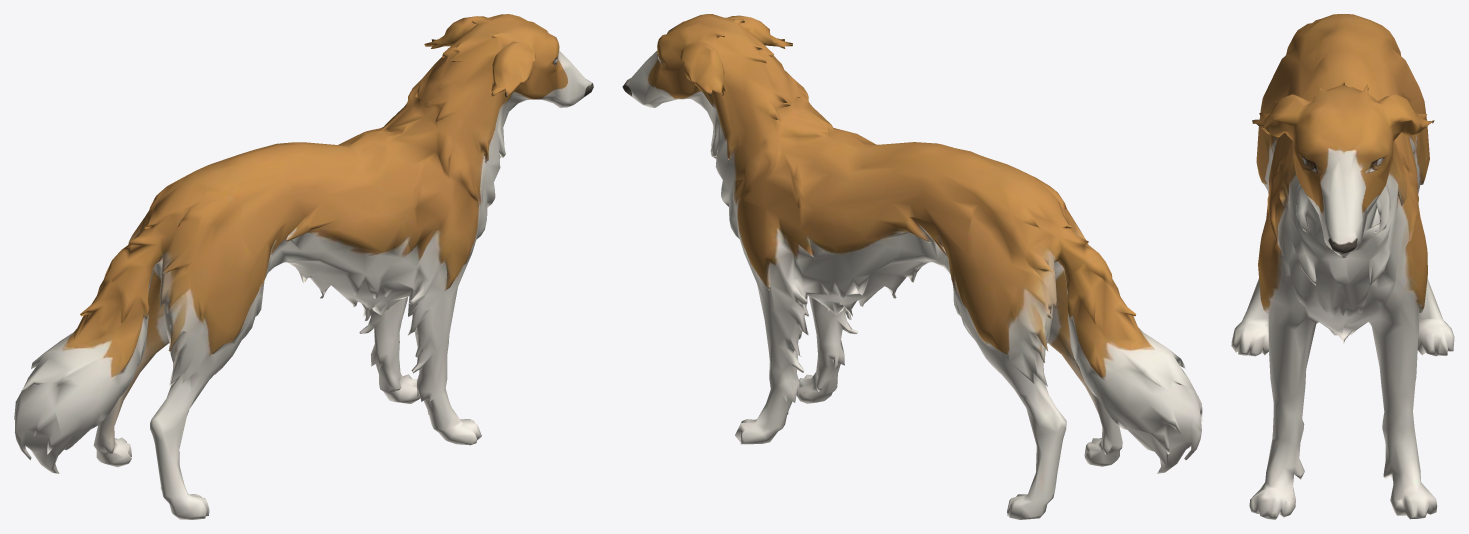
The model's file is rocket.glb.
3 renders of one model, left to right at view 1: azimuth 30°, elevation 25°; view 2: azimuth 150°, elevation 25°; view 3: azimuth 270°, elevation 25°, orthographic. The views are drawn at different scales.
Parts seen in each view (by area): view 1: tripo_node_69f7b2f1-013a-4929-9a9c-42e6ae5c92c0; view 2: tripo_node_69f7b2f1-013a-4929-9a9c-42e6ae5c92c0; view 3: tripo_node_69f7b2f1-013a-4929-9a9c-42e6ae5c92c0.
Boxes of the visible parts, x1=… form: tripo_node_69f7b2f1-013a-4929-9a9c-42e6ae5c92c0: x1=14, y1=14, x2=593, y2=519; tripo_node_69f7b2f1-013a-4929-9a9c-42e6ae5c92c0: x1=622, y1=14, x2=1202, y2=519; tripo_node_69f7b2f1-013a-4929-9a9c-42e6ae5c92c0: x1=1231, y1=14, x2=1454, y2=519.
Size of the model in its own units: 0.9992 by 0.6337 by 0.2784.
1 material, 1 textured.
